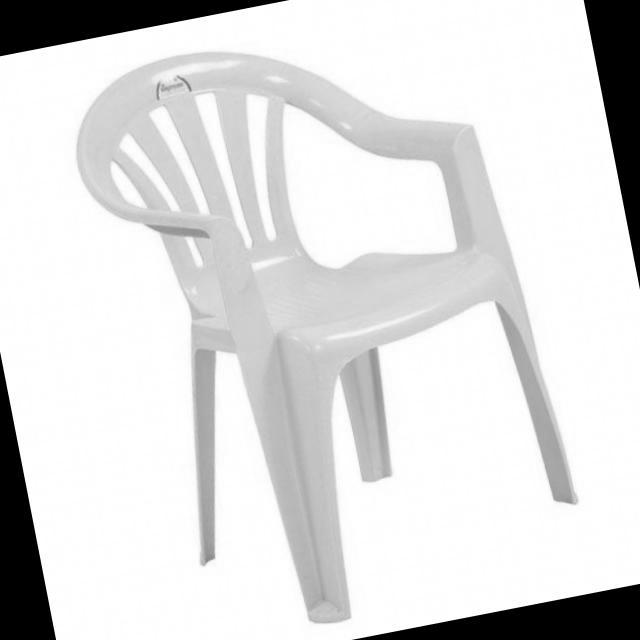chair: (58, 0, 602, 640)
